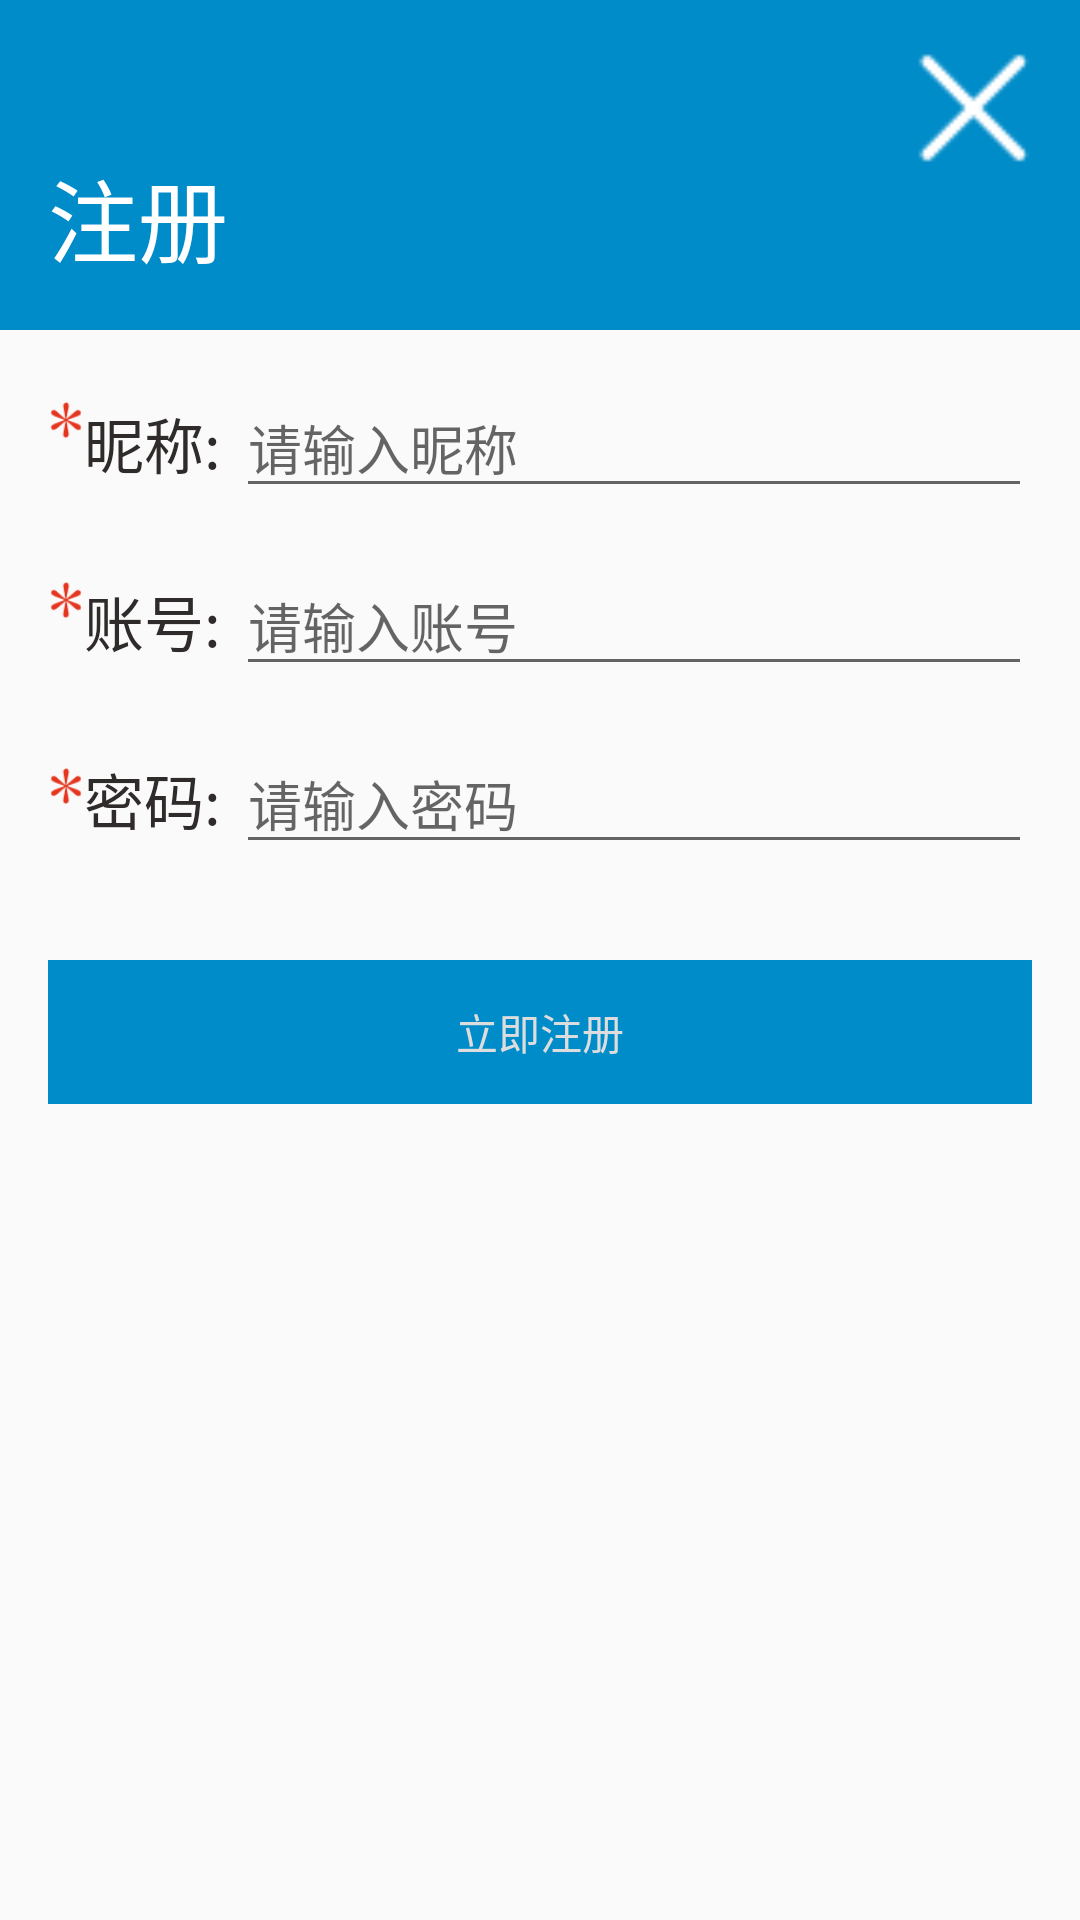

Where to tap for icons on this 1080x1920 app screen, as (x=x, y=y):
register close: (x=973, y=108)
